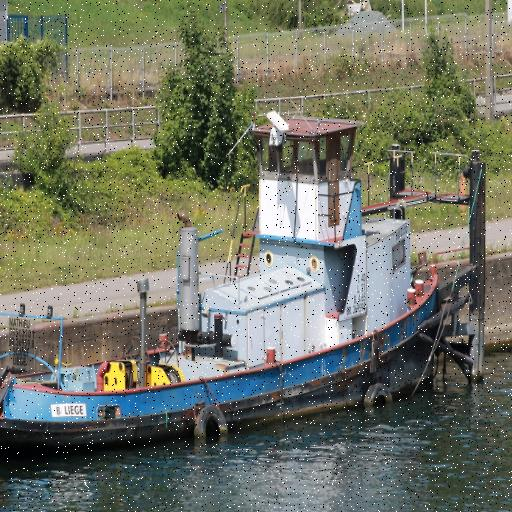tugboat: (1, 106, 489, 460)
